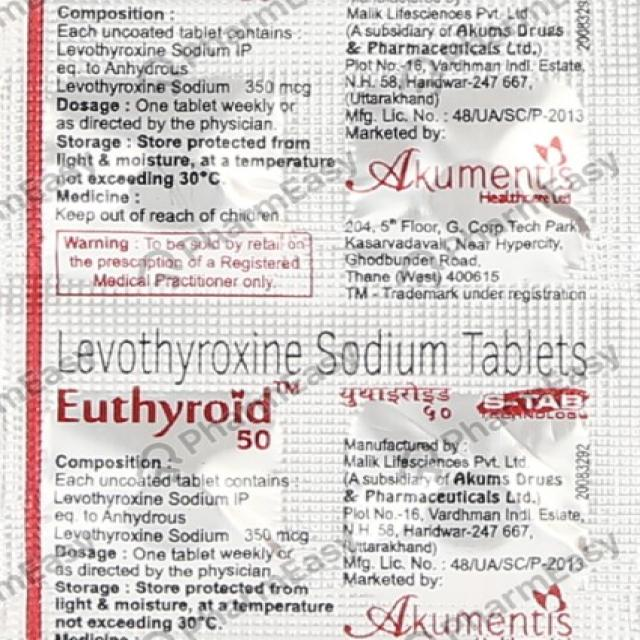Medicine-name: (48, 325, 604, 385)
